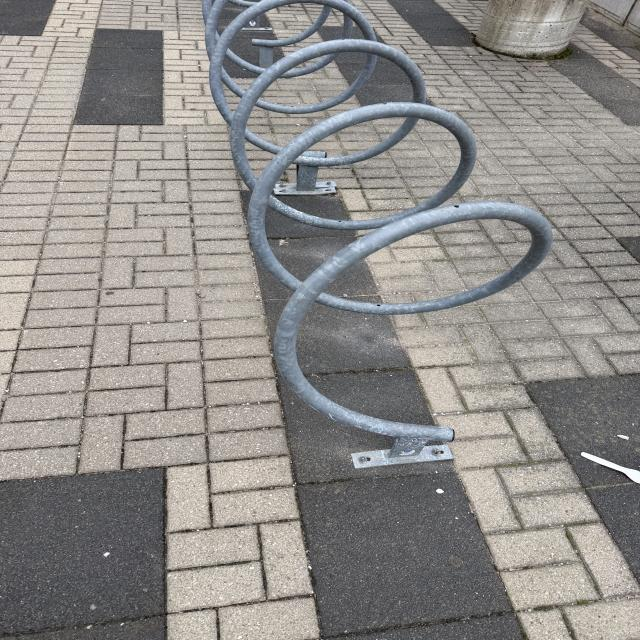Bicycle Rack: (204, 2, 557, 471)
